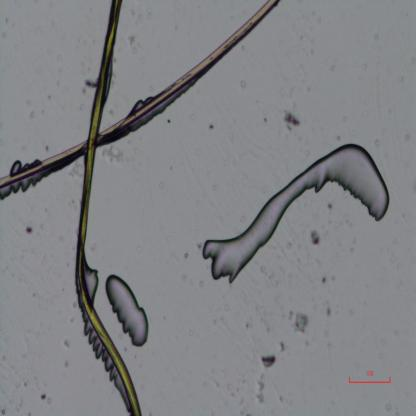Air bubble: (203, 143, 388, 285), (106, 274, 148, 347), (0, 177, 42, 204), (103, 355, 124, 399), (84, 257, 101, 304), (91, 339, 104, 360), (83, 322, 95, 342), (10, 160, 23, 178)
Background material: (290, 309, 310, 336), (101, 144, 126, 165), (282, 108, 302, 132), (233, 72, 249, 93), (260, 352, 278, 368), (257, 373, 266, 404), (85, 76, 99, 90), (27, 107, 39, 122), (129, 36, 138, 56), (310, 228, 320, 246), (60, 336, 72, 350), (165, 113, 175, 127), (320, 273, 330, 287), (40, 394, 52, 405), (325, 197, 334, 211), (279, 336, 287, 350), (207, 120, 215, 133), (324, 304, 332, 316), (183, 249, 190, 260), (26, 224, 32, 234)
Microfibre: (0, 0, 280, 188), (74, 0, 141, 416)
